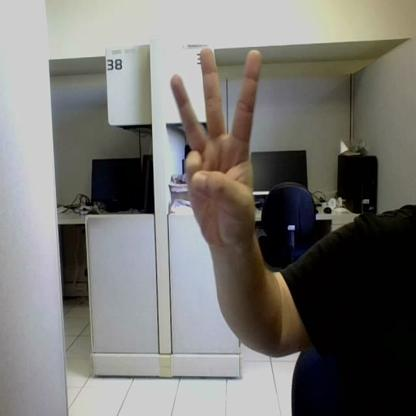W: (172, 48, 263, 240)
